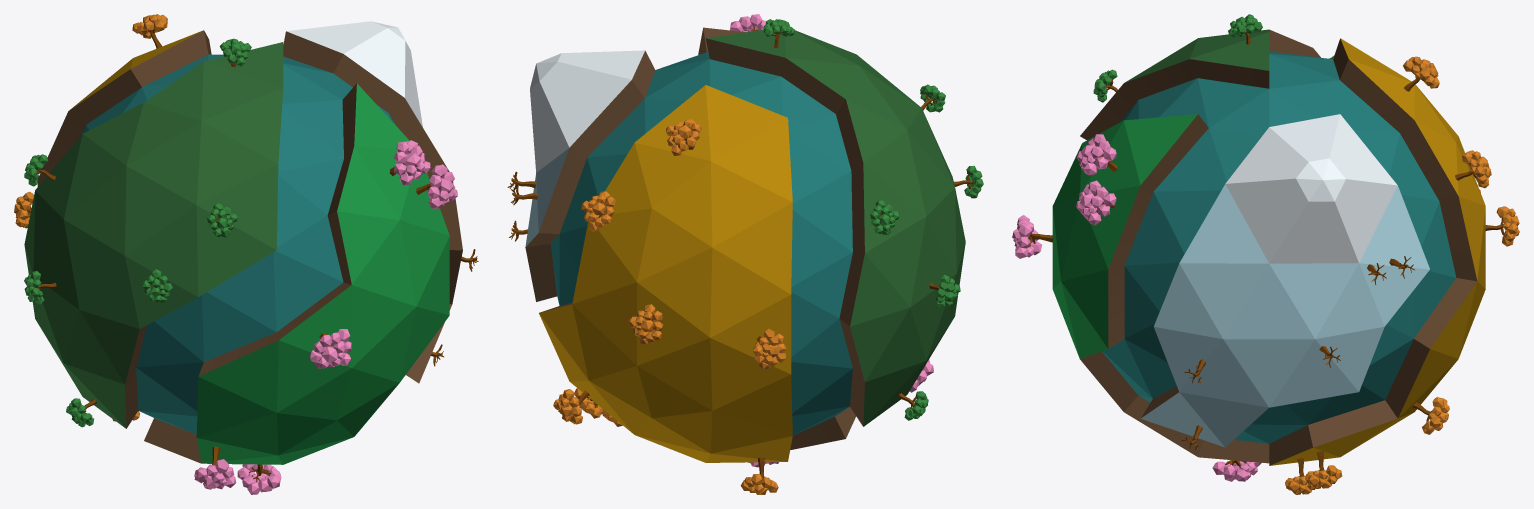
Rendered from planet with core.fbx.
3 views of the same model, side by side, from view 1: azimuth 30°, elevation 25°; view 2: azimuth 150°, elevation 25°; view 3: azimuth 270°, elevation 25° (orthographic).
Visible parts, largest first — view 1: polySurface2, polySurface195, polySurface194, polySurface159; view 2: polySurface159, polySurface2, polySurface194, polySurface195; view 3: polySurface194, polySurface159, polySurface195, polySurface2.
Part boxes in pixels (x1=…): polySurface2: x1=24, y1=38, x2=319, y2=428; polySurface195: x1=144, y1=69, x2=457, y2=494; polySurface194: x1=283, y1=21, x2=478, y2=383; polySurface159: x1=14, y1=14, x2=223, y2=421; polySurface159: x1=539, y1=76, x2=831, y2=494; polySurface2: x1=678, y1=19, x2=983, y2=426; polySurface194: x1=507, y1=50, x2=684, y2=301; polySurface195: x1=678, y1=14, x2=933, y2=467; polySurface194: x1=1125, y1=104, x2=1436, y2=450; polySurface159: x1=1235, y1=38, x2=1519, y2=494; polySurface195: x1=1012, y1=102, x2=1269, y2=481; polySurface2: x1=1080, y1=14, x2=1334, y2=140.
Size of the model in its own units: 94.22 by 96.99 by 98.86.
